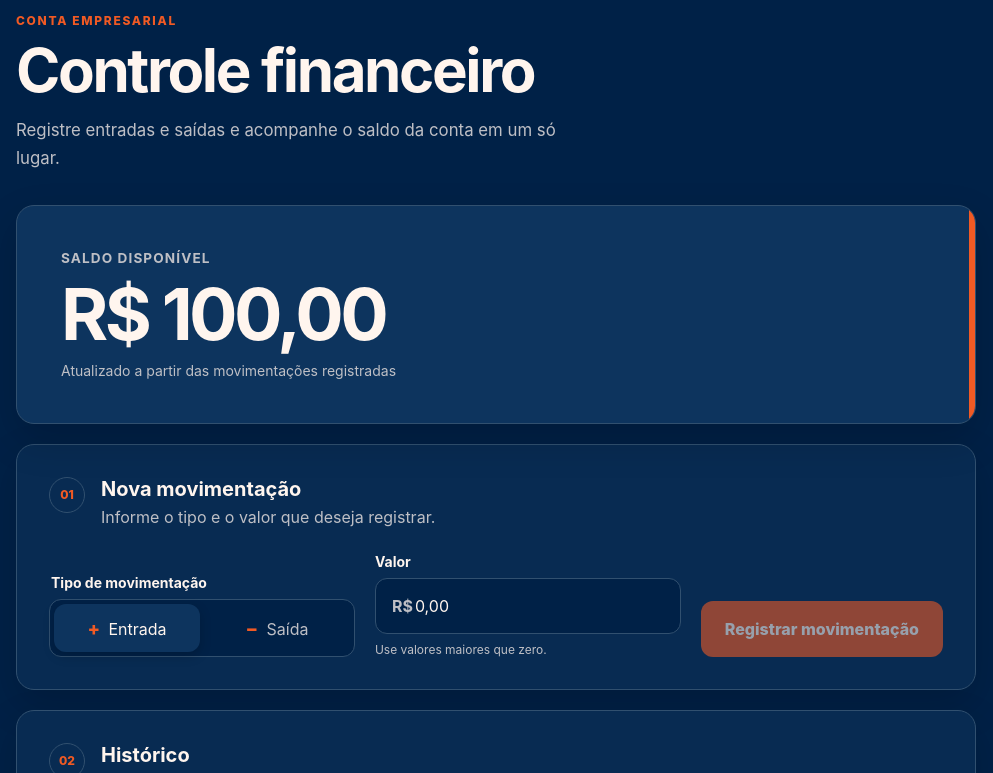
Test: App › submits a credit and refreshes balance and history
This screenshot has width=993, height=773.
Expected: the text "R$ 100,00" is shown, [61,270,385,357]
Type "5000" into the field labelled "Valor" at (546,606), box [413,595,680,617]
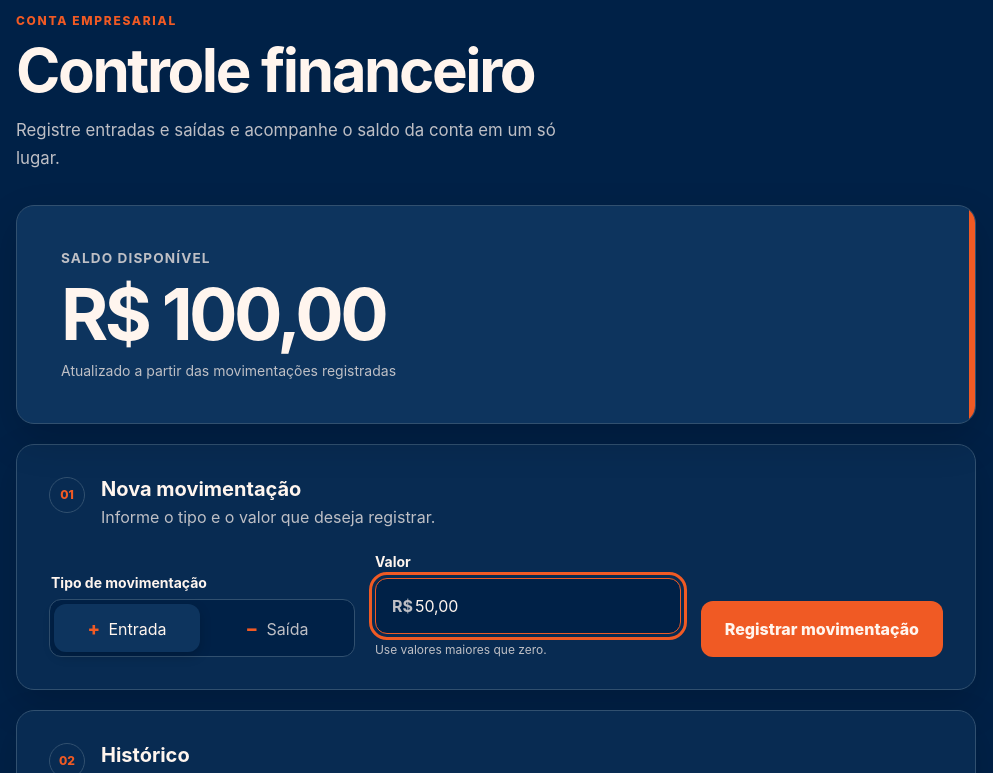
Click the button "Registrar movimentação" at (822,629), box [701,601,943,657]
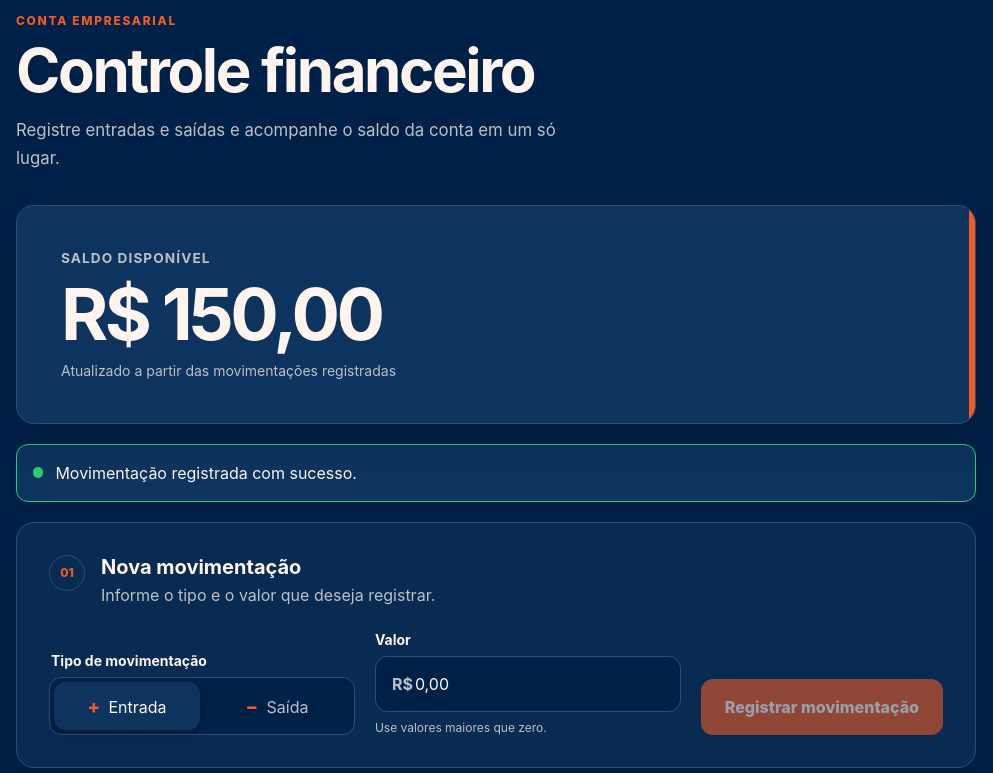
Now the text "Movimentação registrada com sucesso." is shown, box [55,463,357,483]
Now the text "R$ 150,00" is shown, box [61,270,381,357]
Now the field labelled "Valor" holds "0,00", box [413,673,680,695]
